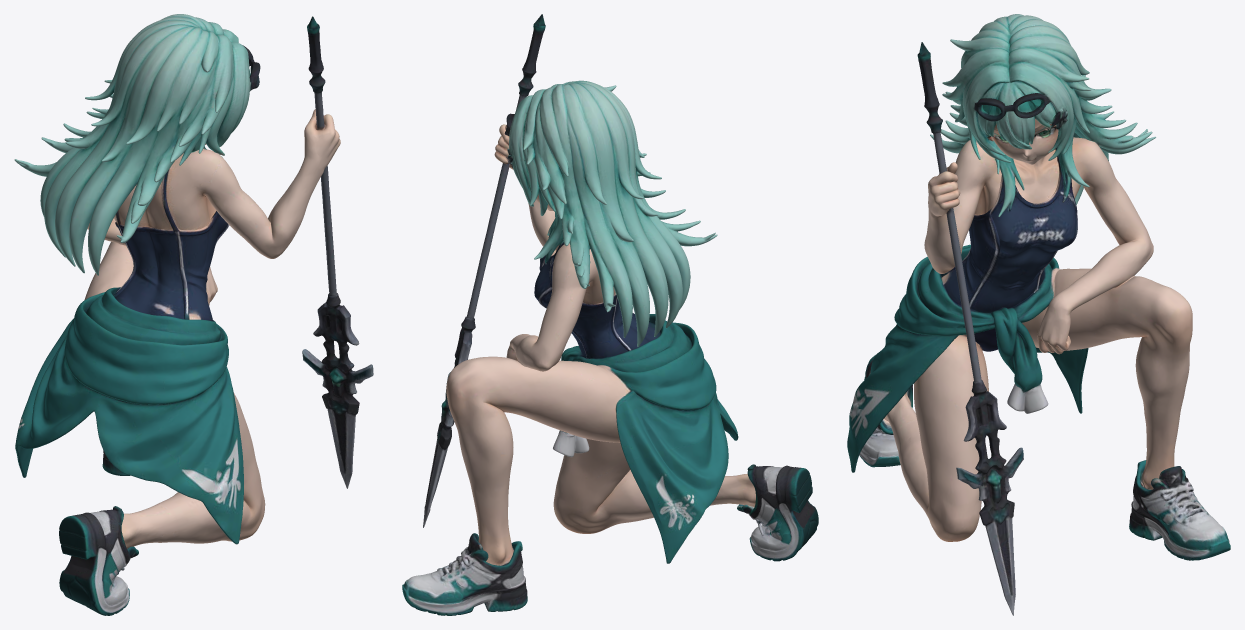
File: 335-aqua-haired-spearwoman.glb
The picture shows the model from 3 angles, left to right: view 1: azimuth 30°, elevation 25°; view 2: azimuth 150°, elevation 25°; view 3: azimuth 270°, elevation 25°; orthographic projection. The views are drawn at different scales.
Parts seen in each view (by area): view 1: tripo_node_8e9bb885-c680-49d1-9d71-7c9e471b9b8e; view 2: tripo_node_8e9bb885-c680-49d1-9d71-7c9e471b9b8e; view 3: tripo_node_8e9bb885-c680-49d1-9d71-7c9e471b9b8e.
Boxes of the visible parts, x1,y1,x2,y2 form: tripo_node_8e9bb885-c680-49d1-9d71-7c9e471b9b8e: [14, 14, 373, 615]; tripo_node_8e9bb885-c680-49d1-9d71-7c9e471b9b8e: [402, 14, 818, 615]; tripo_node_8e9bb885-c680-49d1-9d71-7c9e471b9b8e: [847, 14, 1230, 615].
Bounding box in the file's own units: 0.6859 × 1 × 0.6504.
1 material, 1 textured.
